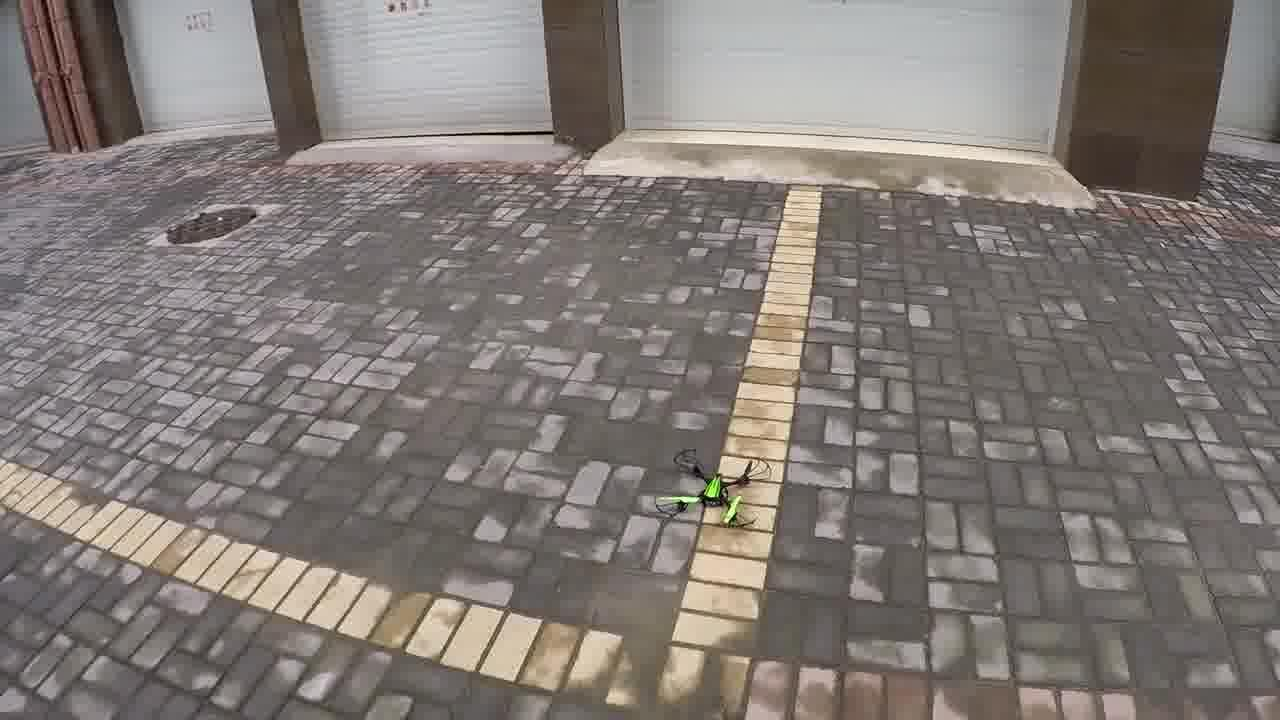drone: (642, 439, 775, 538)
